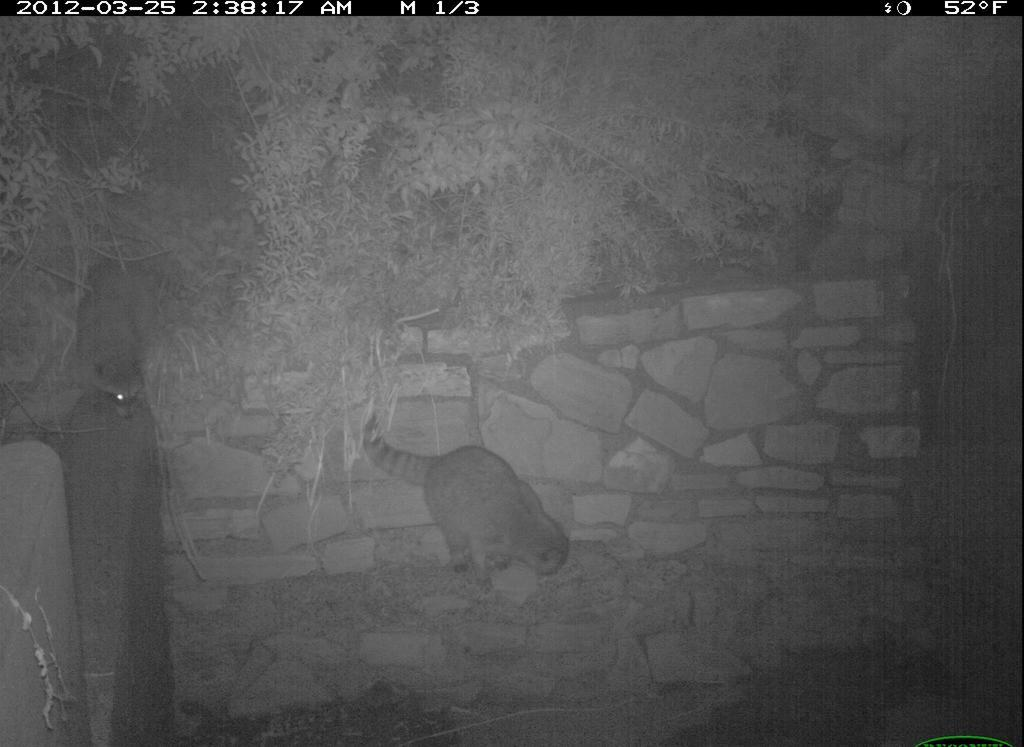raccoon: (359, 410, 582, 594)
